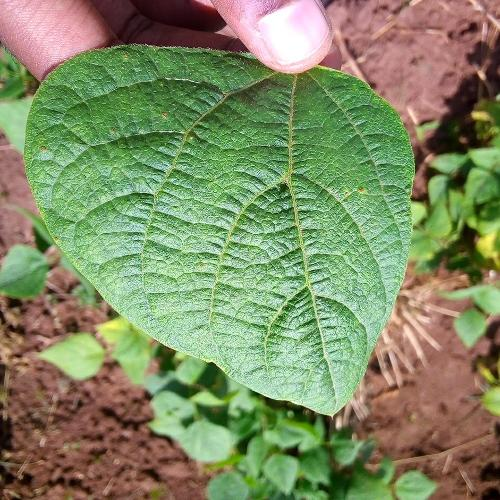mozaik: (108, 88, 377, 204)
